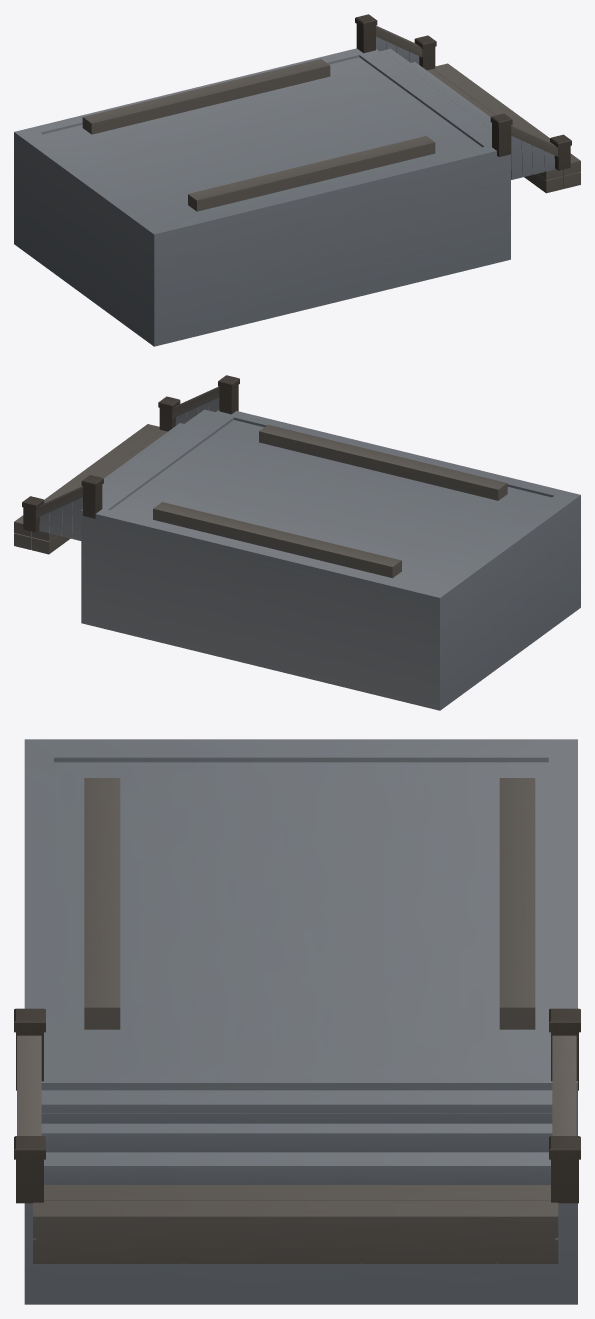
Rendered from monumento1.fbx.
The picture shows the model from 3 angles, top to bottom: view 1: azimuth 30°, elevation 25°; view 2: azimuth 150°, elevation 25°; view 3: azimuth 270°, elevation 25°; orthographic projection. The views are drawn at different scales.
Visible parts, largest first — view 1: group89; view 2: group89; view 3: group89.
Part boxes in pixels (bbox=[...]): group89: bbox=[14, 14, 580, 346]; group89: bbox=[14, 375, 580, 710]; group89: bbox=[14, 739, 580, 1304].
Bounding box in the file's own units: 3982 × 1270 × 2310.
